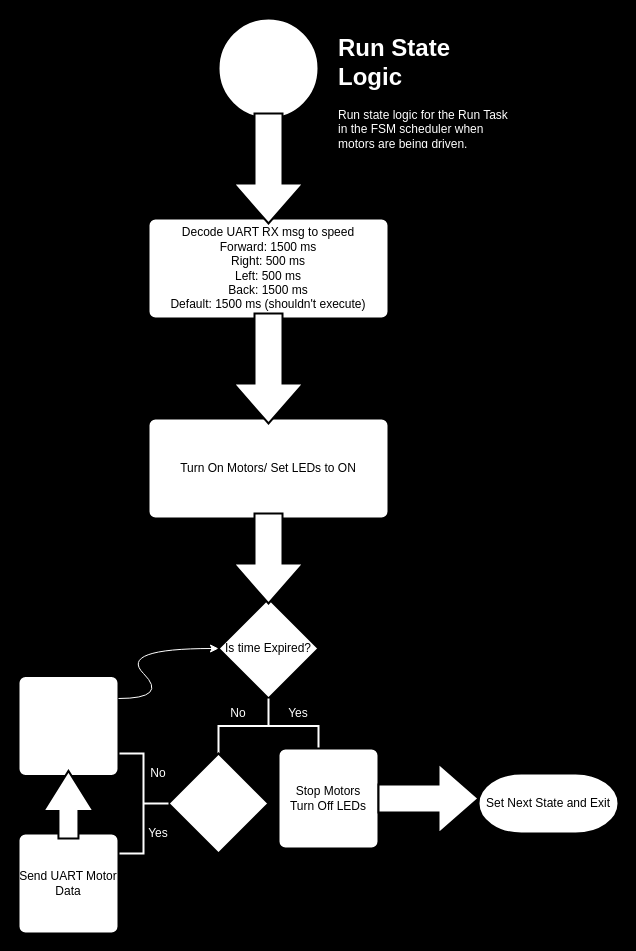
This 636x951 diagram has some shape labels left out. The shapes that lost their labels are listed below. From the top down, each one's centre as x and y in pixels, then its label:
point (268, 68): Run State Entered
point (68, 725): Run PID and motors
point (218, 803): Is Buffer Free?
